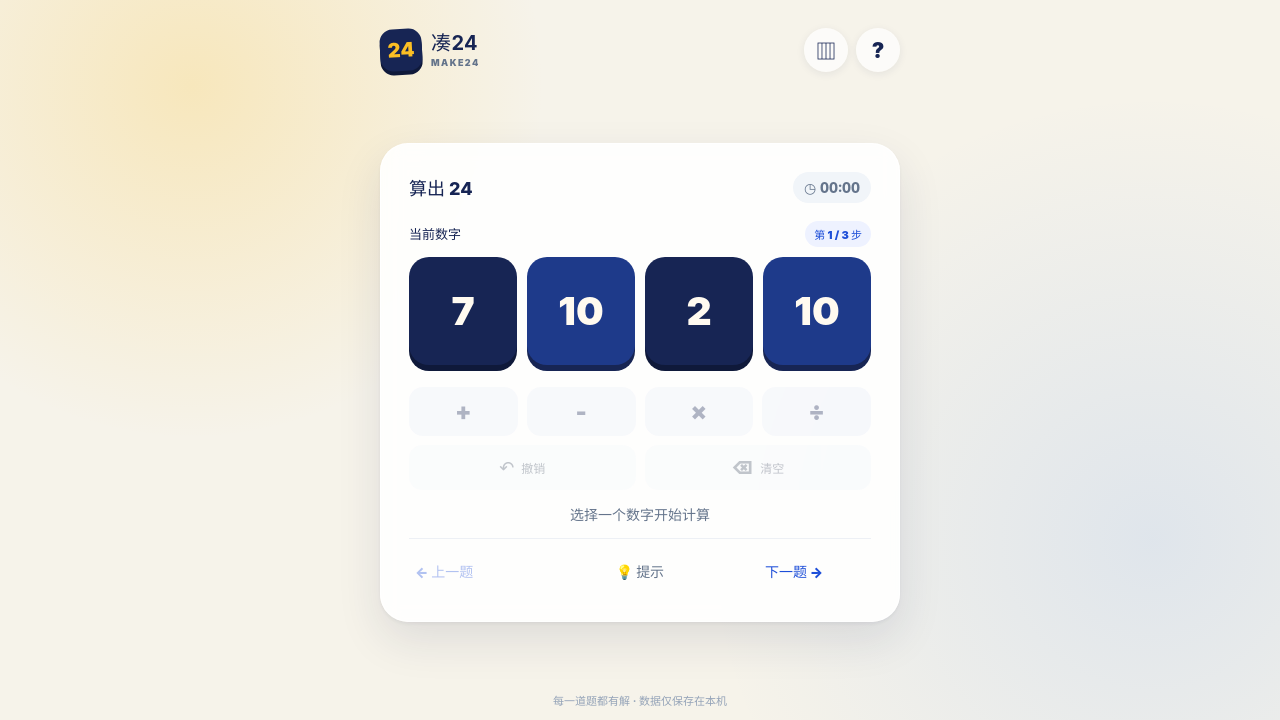
Test: Make24 app › opens the statistics drawer
Click the button named "查看统计" at coordinates (826, 50), box [804,28,848,72]
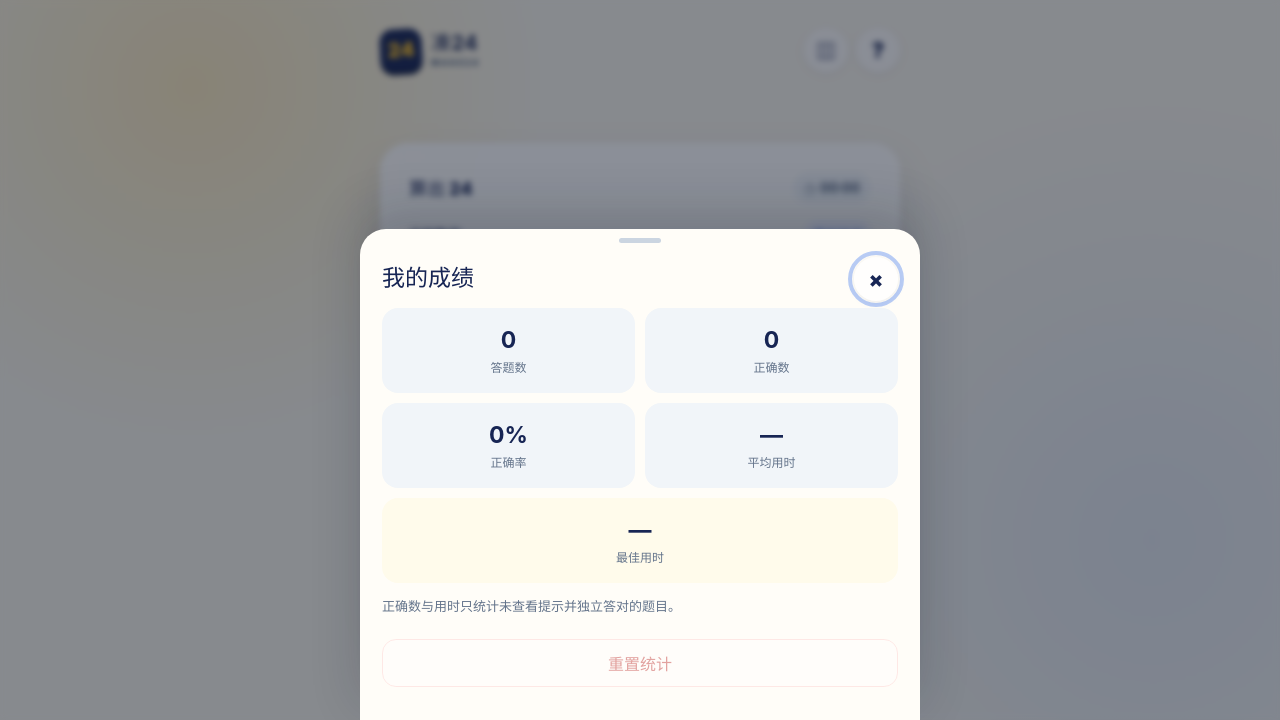
Now the dialog "我的成绩" is shown, box [360,229,920,719]
